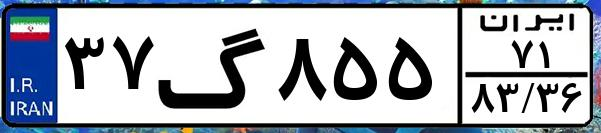1: (537, 27, 568, 80)
3: (57, 26, 110, 100), (495, 70, 520, 125), (535, 70, 560, 125)
5: (385, 28, 445, 110), (330, 28, 385, 110)
6: (560, 70, 590, 125)
7: (110, 28, 156, 98), (508, 27, 537, 80)
8: (270, 28, 330, 110), (470, 70, 495, 125)
گ: (156, 12, 270, 120)
